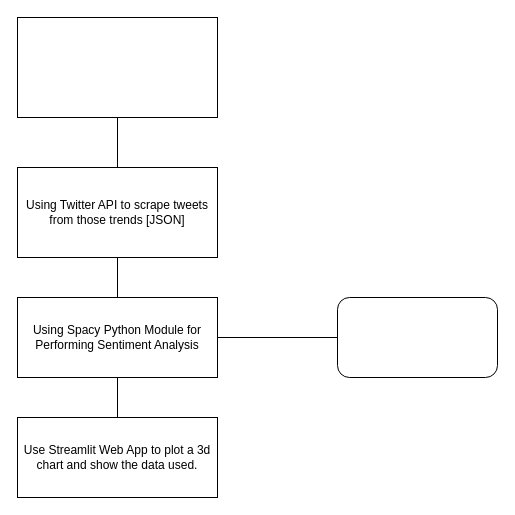
The diagram is 515 pixels wide and 515 high, and some of its shapes have lost their labels. Each missing label, with the centre of its shape:
Dump Irrelevant Data: point (417, 337)
Inbuilt API to scrape trends: point (117, 67)
